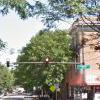Tree: (16, 17, 79, 84)
